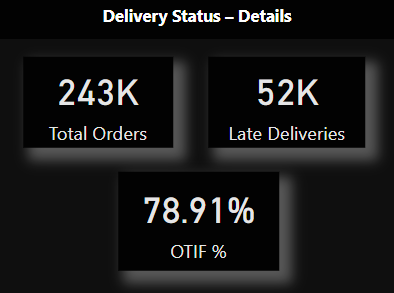

What the dashboard file says about the page in this screenshot:
{"tool":"powerbi","page":{"name":"Tooltip – Delivery Status","canvas":[320,240],"ordinal":1},"visuals":[{"type":"card","fields":{"Values":["Orders.Total Orders"]},"box":[21,47,120,73],"z":0},{"type":"card","fields":{"Values":["Orders.Late Deliveries"]},"box":[169,47,126,73],"z":1000},{"type":"card","fields":{"Values":["Orders.OTIF %"]},"box":[97,139,129,79],"z":2000},{"type":"textbox","box":[0,0,320,33],"z":3000}]}

Visuals, with their boxes in screenshot pixels (x1, y1, x2, y2), scaled from the page's 320x240 canvas onto the 394x293 screenshot:
card - Orders.Total Orders: BBox(26, 57, 174, 146)
card - Orders.Late Deliveries: BBox(208, 57, 363, 146)
card - Orders.OTIF %: BBox(119, 170, 278, 266)
textbox: BBox(0, 0, 393, 40)
